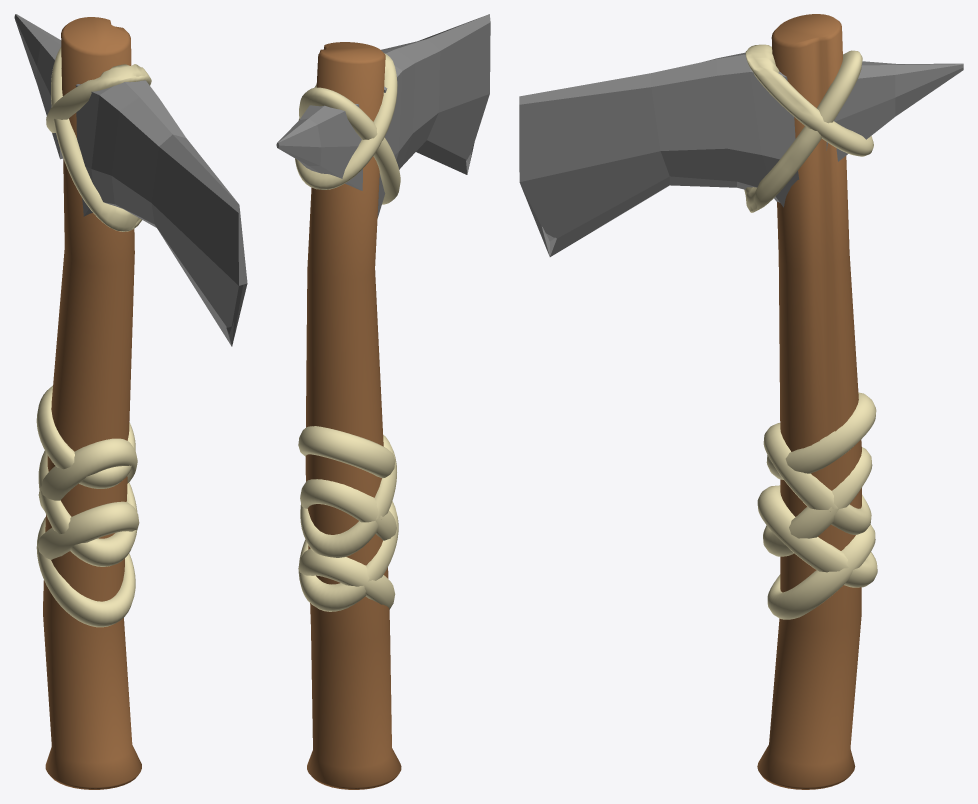
Rendered from axe.glb.
3 views of the same model, side by side, from view 1: azimuth 30°, elevation 25°; view 2: azimuth 150°, elevation 25°; view 3: azimuth 270°, elevation 25° (orthographic). The views are drawn at different scales.
Visible parts, largest first — view 1: Cylinder.002, Cube.002, Torus.012, Torus.007, Torus.009, Torus.010, Torus.011, Torus.008, Cube.001, Torus.006; view 2: Cylinder.002, Cube.002, Cube.001, Torus.008, Torus.009, Torus.007, Torus.006, Torus.010, Torus.011, Torus.012; view 3: Cylinder.002, Cube.002, Cube.001, Torus.007, Torus.006, Torus.010, Torus.012, Torus.009, Torus.008, Torus.011.
Part boxes in pixels (left/top/right/bottom): Cylinder.002: left=43, top=17, right=141, bottom=789; Cube.002: left=75, top=80, right=247, bottom=346; Torus.012: left=36, top=517, right=135, bottom=627; Torus.007: left=51, top=47, right=141, bottom=231; Torus.009: left=38, top=438, right=137, bottom=510; Torus.010: left=37, top=501, right=139, bottom=559; Torus.011: left=38, top=450, right=137, bottom=566; Torus.008: left=36, top=385, right=135, bottom=488; Cube.001: left=14, top=14, right=63, bottom=159; Torus.006: left=46, top=64, right=151, bottom=132; Cylinder.002: left=305, top=42, right=401, bottom=789; Cube.002: left=377, top=14, right=490, bottom=217; Cube.001: left=276, top=104, right=362, bottom=190; Torus.008: left=298, top=426, right=395, bottom=478; Torus.009: left=300, top=434, right=396, bottom=557; Torus.007: left=299, top=87, right=400, bottom=204; Torus.006: left=295, top=53, right=397, bottom=189; Torus.010: left=298, top=501, right=398, bottom=611; Torus.011: left=300, top=479, right=396, bottom=540; Torus.012: left=298, top=548, right=395, bottom=609; Cylinder.002: left=757, top=14, right=861, bottom=789; Cube.002: left=519, top=52, right=799, bottom=256; Cube.001: left=826, top=61, right=963, bottom=161; Torus.007: left=744, top=50, right=862, bottom=212; Torus.006: left=745, top=44, right=873, bottom=156; Torus.010: left=757, top=485, right=877, bottom=587; Torus.012: left=767, top=524, right=875, bottom=619; Torus.009: left=763, top=423, right=871, bottom=534; Torus.008: left=766, top=392, right=876, bottom=479; Torus.011: left=763, top=447, right=872, bottom=556.
Bounding box in the file's own units: 0.2688 × 2.09 × 1.13.
